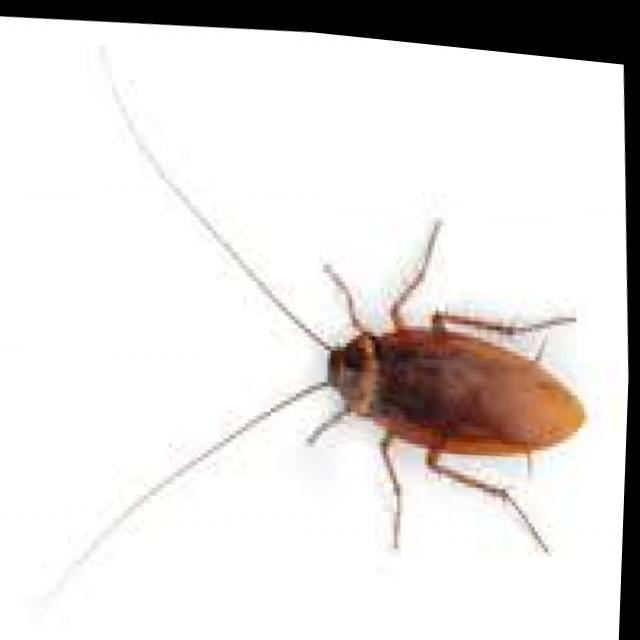Cockroach: (7, 8, 620, 640)
